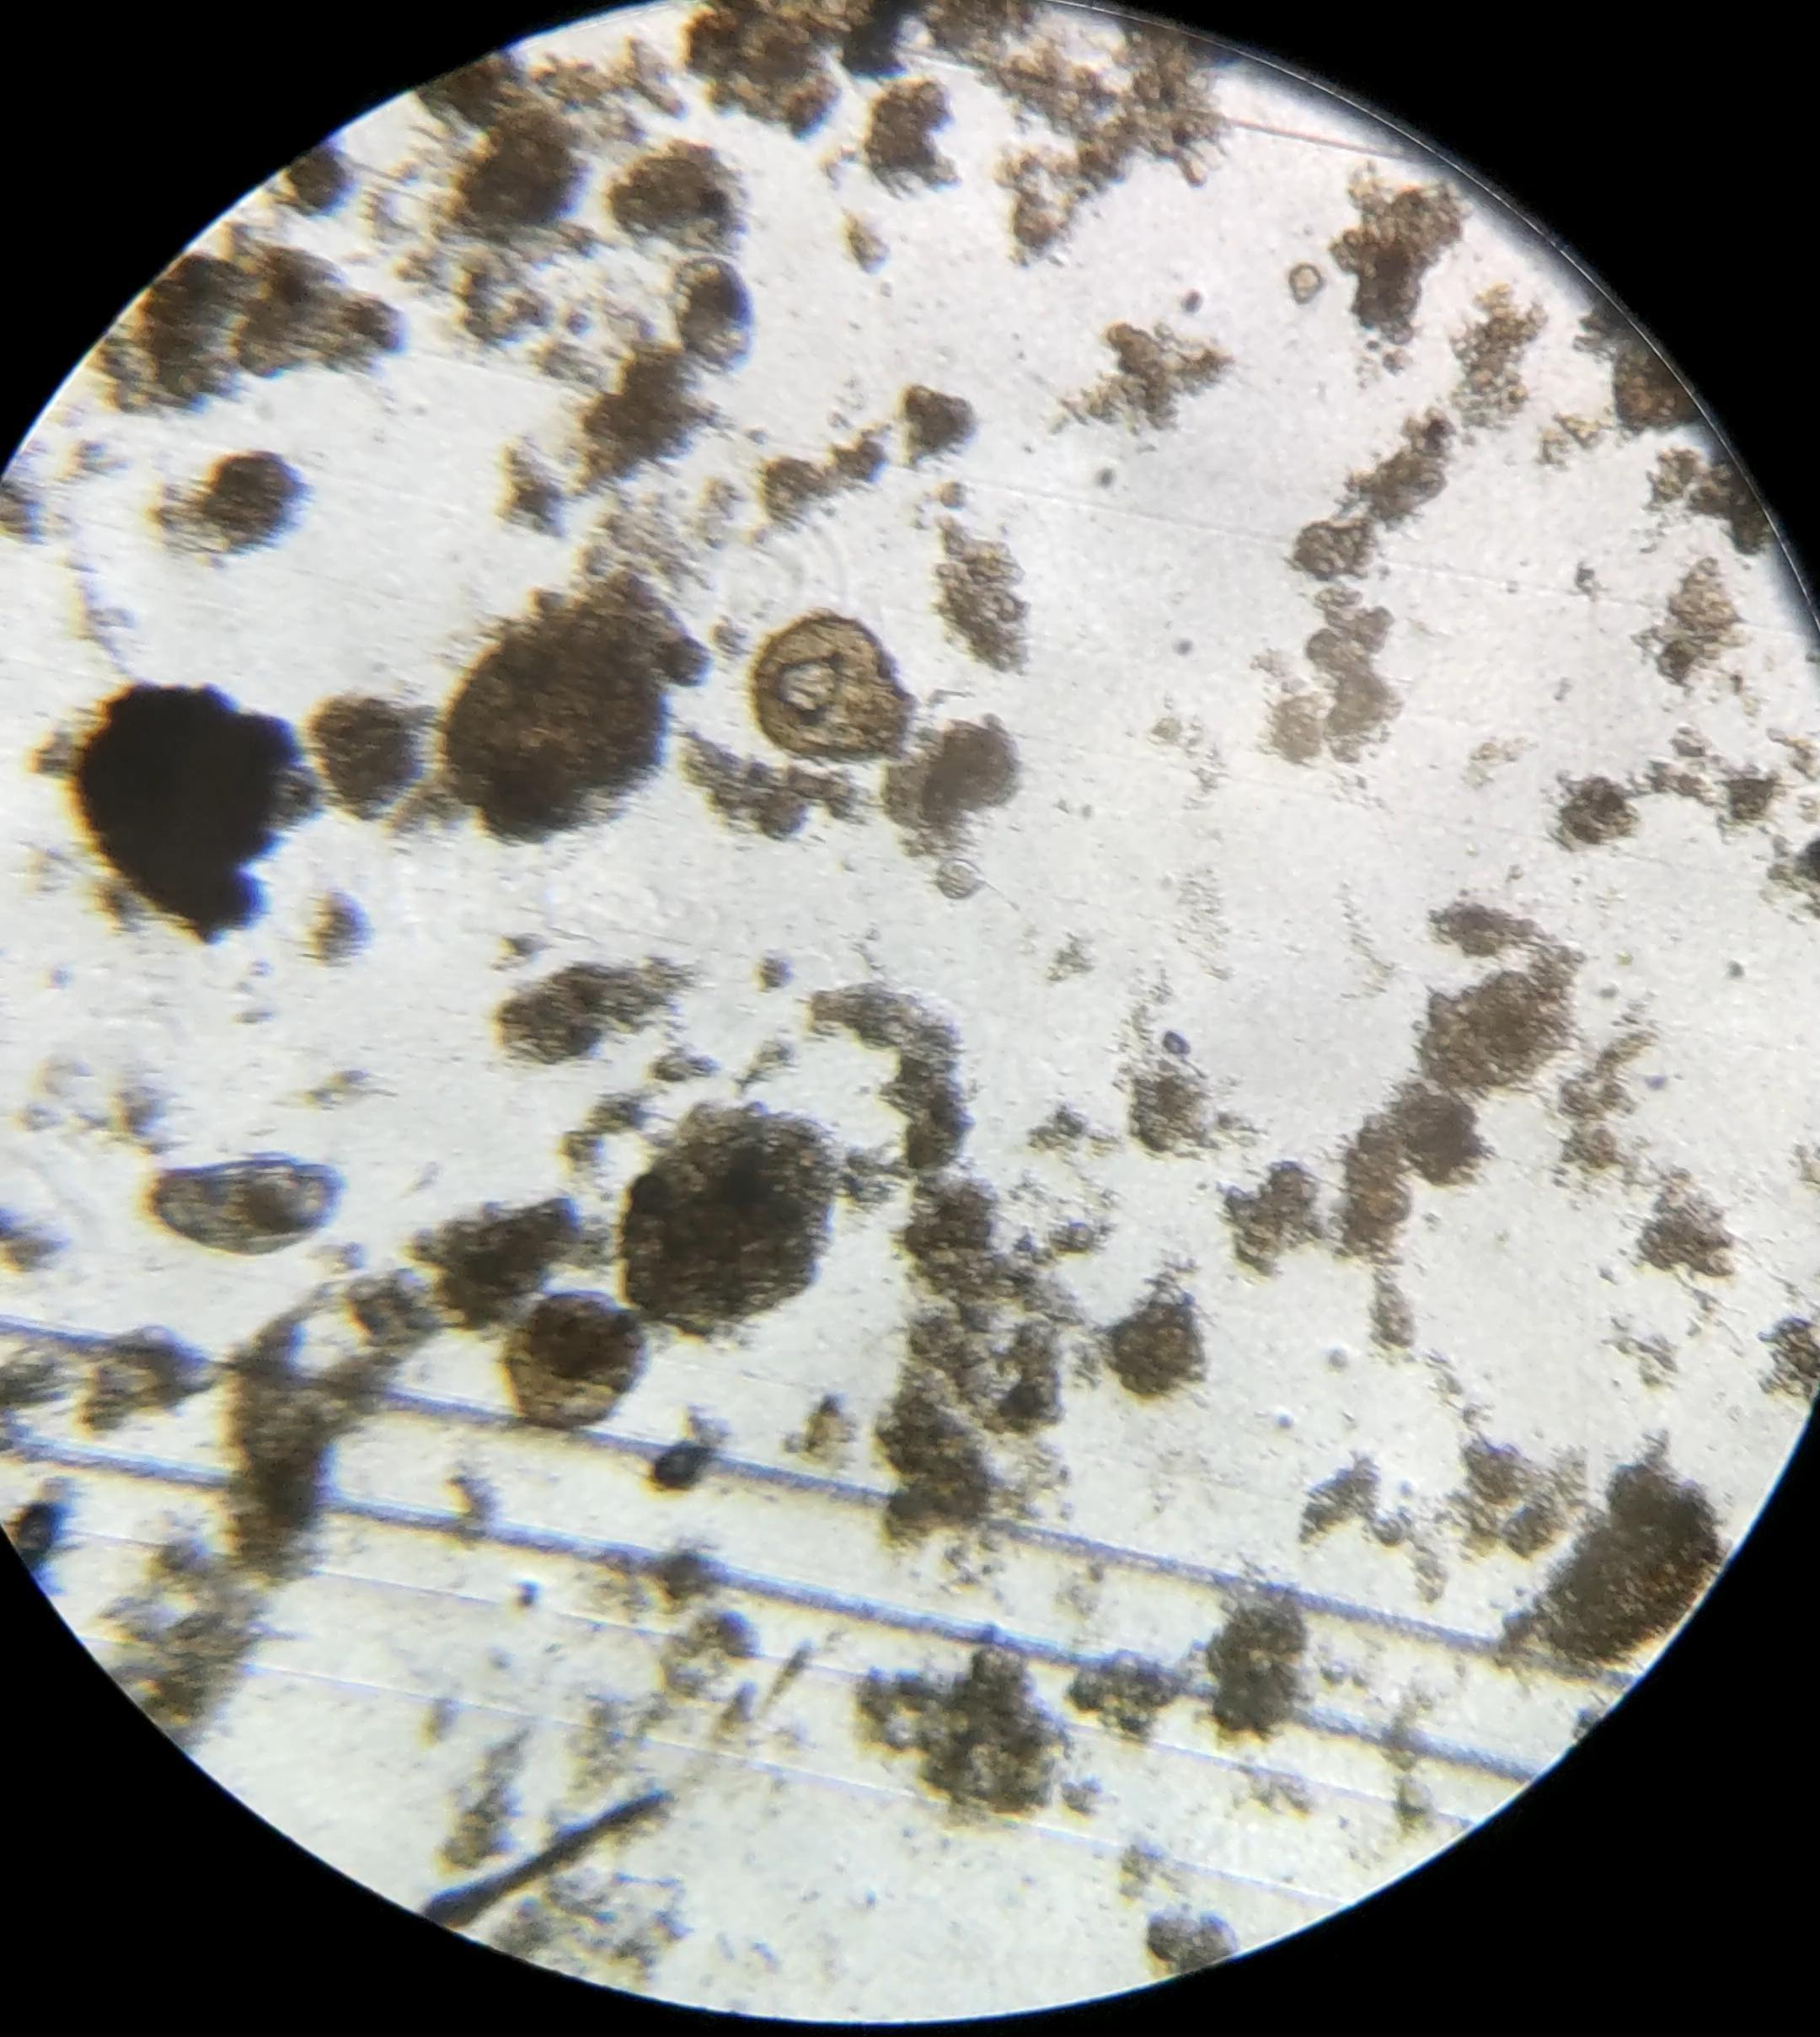Arcella: (757, 617, 885, 759), (509, 1294, 641, 1427)
Mo: (155, 1149, 339, 1255)
